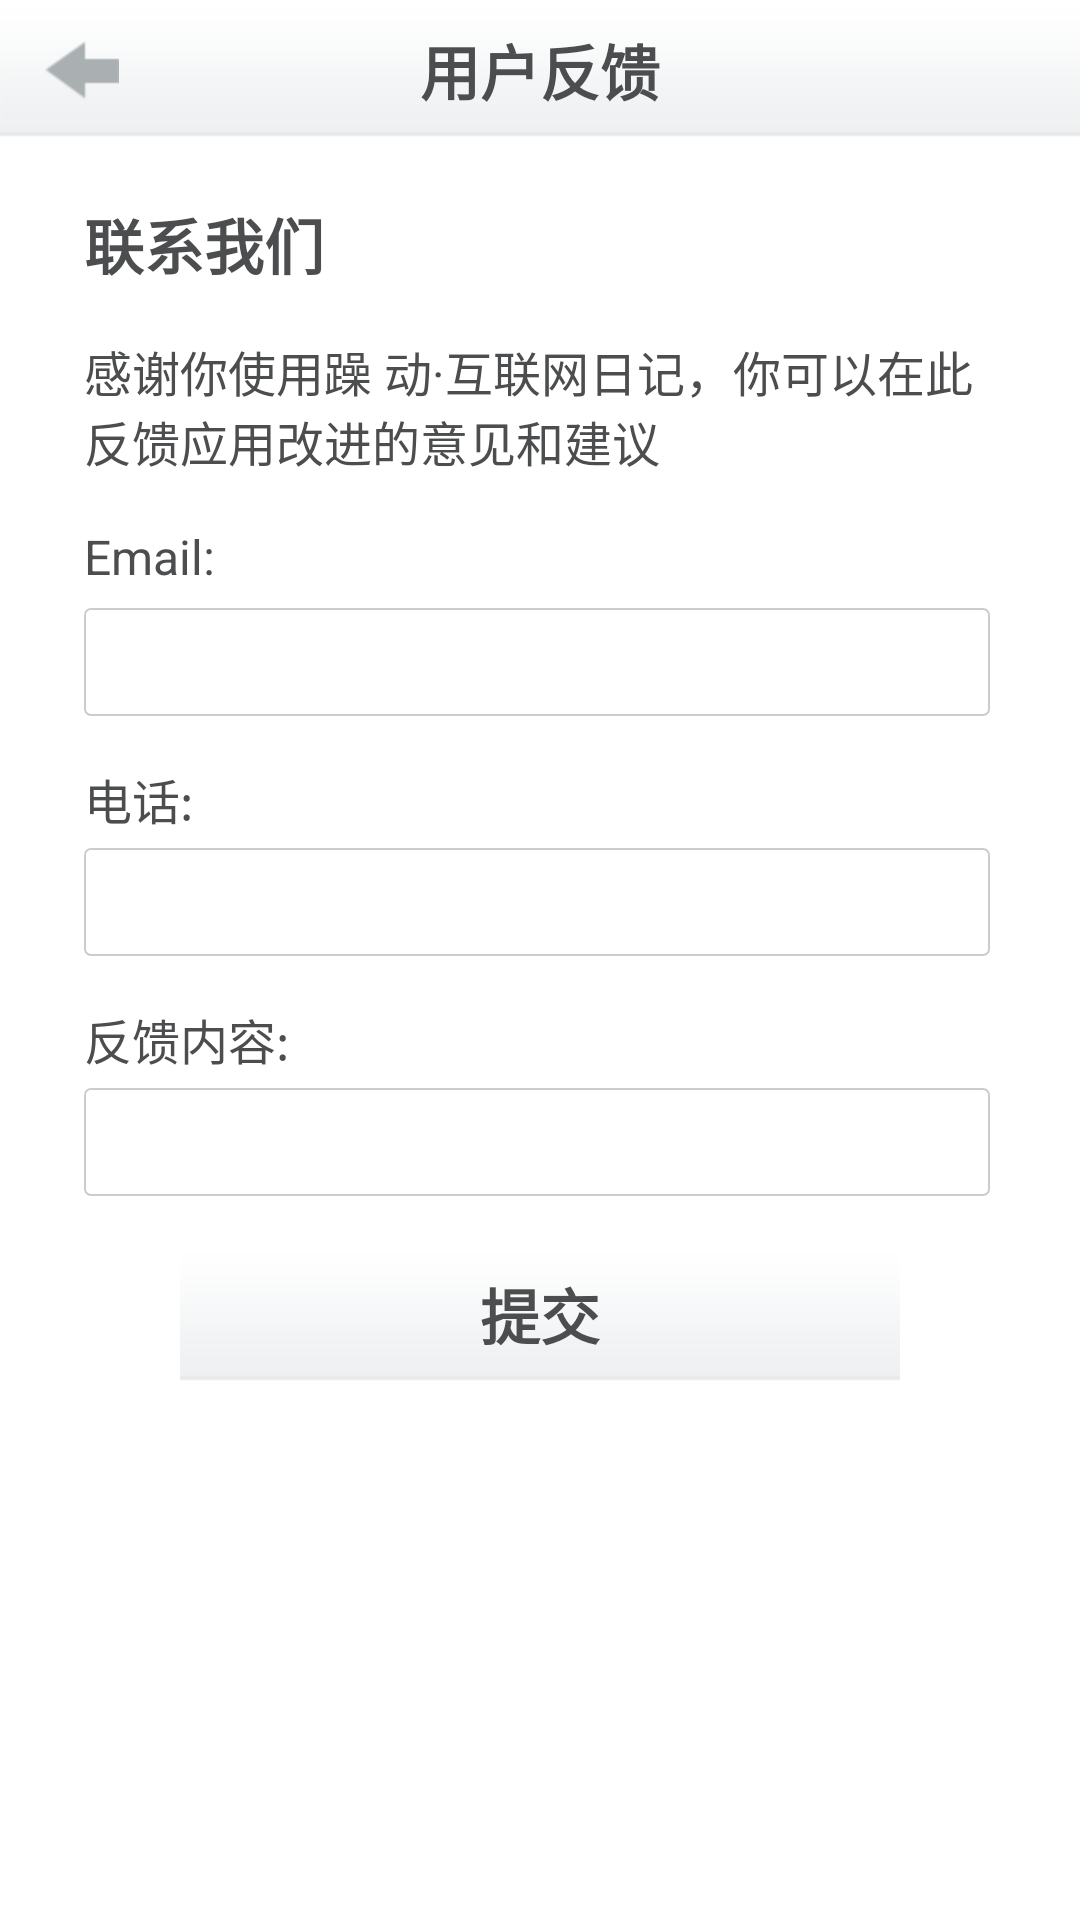

Icon bounding boxes for this 1080*1920 phone screenshot, format (x1, y1, x2, y2):
return: (46, 43, 119, 98)
